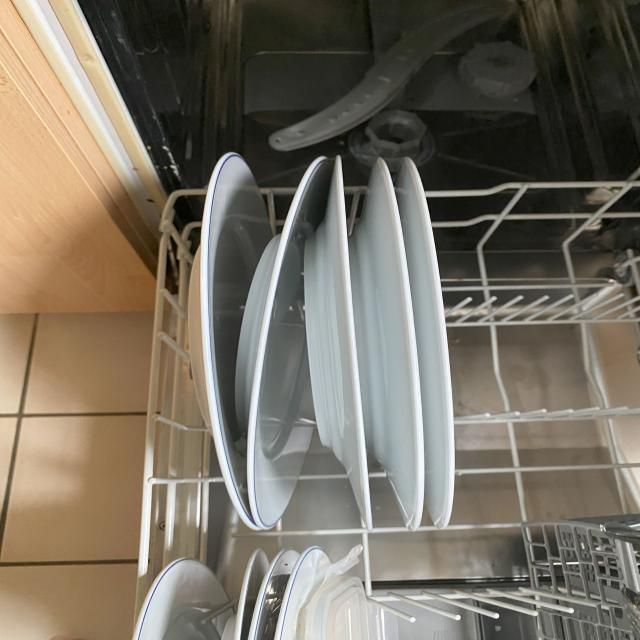empty_slot: (462, 197, 633, 530)
